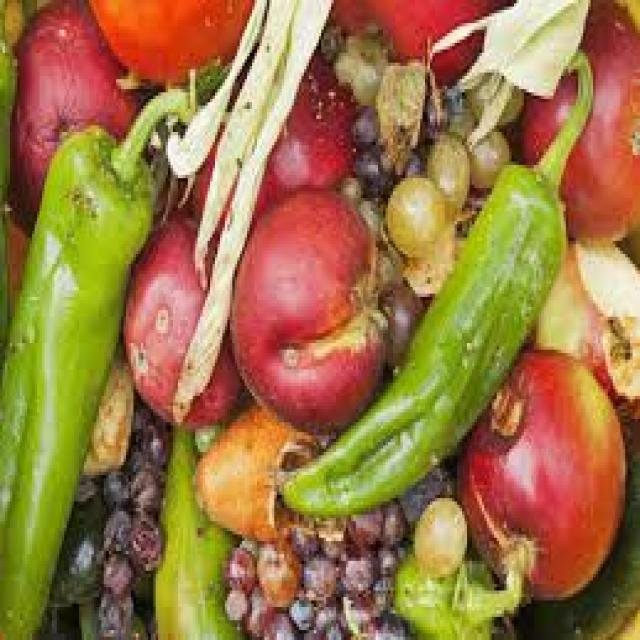organic waste: (0, 0, 638, 637), (274, 43, 591, 511), (0, 83, 188, 636), (170, 0, 328, 419), (454, 343, 622, 601), (228, 188, 390, 432), (163, 50, 358, 234), (8, 0, 144, 234), (188, 0, 299, 284), (193, 46, 353, 238), (516, 0, 638, 238), (116, 205, 242, 419), (524, 412, 637, 637), (425, 0, 586, 142), (534, 231, 638, 412), (188, 399, 321, 538), (160, 0, 264, 172), (86, 0, 256, 82), (391, 544, 526, 637), (328, 0, 486, 76), (0, 0, 32, 350), (79, 337, 134, 475), (373, 56, 430, 175), (400, 202, 472, 290), (72, 564, 153, 637), (44, 502, 104, 600), (383, 175, 445, 254), (410, 492, 465, 574), (376, 277, 422, 366), (396, 455, 452, 528), (331, 23, 383, 99), (459, 63, 522, 122), (395, 465, 450, 528), (420, 132, 467, 204), (255, 538, 299, 604), (428, 83, 474, 145), (462, 125, 507, 185), (118, 436, 166, 482), (129, 508, 163, 571), (334, 538, 371, 590), (351, 139, 390, 188), (94, 587, 131, 637), (368, 241, 405, 290), (338, 590, 376, 636), (190, 59, 228, 102), (343, 505, 383, 544), (99, 548, 136, 590), (314, 515, 353, 554), (354, 192, 386, 238), (220, 544, 252, 590), (126, 465, 158, 511), (237, 590, 267, 636), (378, 492, 405, 541), (138, 419, 168, 462), (99, 504, 128, 548), (348, 99, 376, 142), (366, 567, 390, 617), (99, 462, 128, 501), (371, 607, 405, 637), (262, 607, 296, 637), (373, 538, 400, 574), (284, 512, 314, 544), (134, 594, 156, 637), (284, 587, 312, 620), (329, 165, 358, 195), (220, 584, 247, 614), (121, 604, 146, 636), (393, 142, 420, 171), (188, 422, 217, 449), (318, 16, 338, 53), (610, 0, 637, 26), (133, 402, 151, 439), (311, 594, 336, 620), (274, 504, 292, 538), (72, 472, 92, 495), (321, 617, 346, 633), (234, 534, 254, 548), (304, 627, 319, 637)
